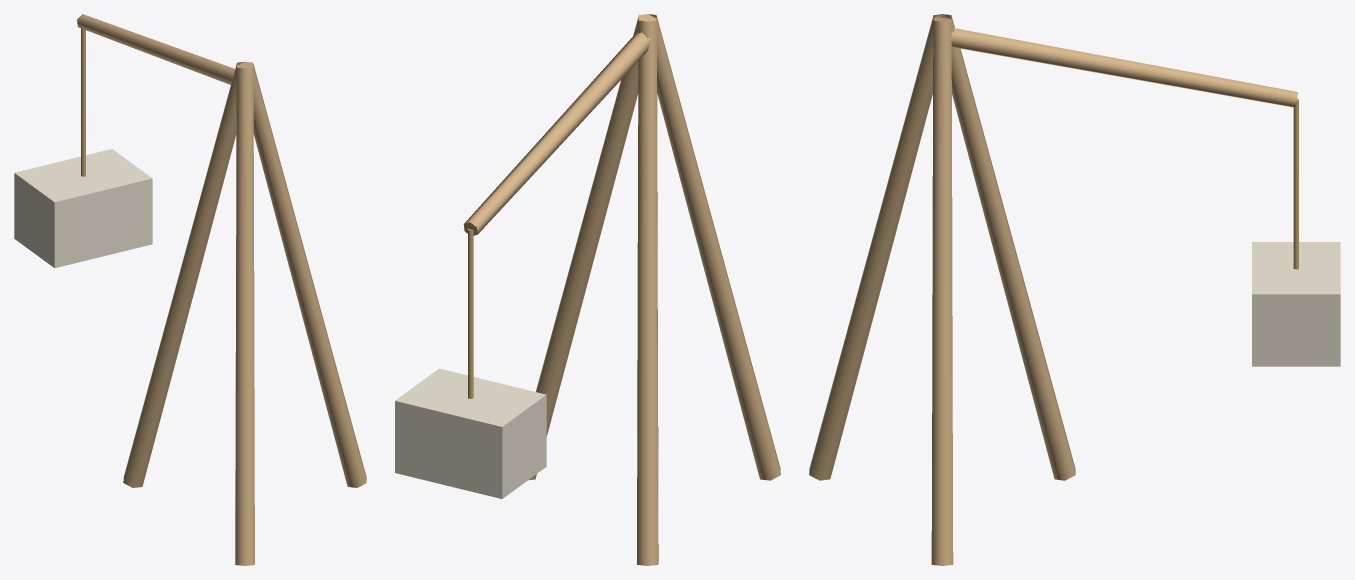
Rendered from crane.fbx.
3 renders of one model, left to right at view 1: azimuth 30°, elevation 25°; view 2: azimuth 150°, elevation 25°; view 3: azimuth 270°, elevation 25°, orthographic. The views are drawn at different scales.
Visible parts, largest first — view 1: crane; view 2: crane; view 3: crane.
Part boxes in pixels (left/top/right/bottom): crane: left=14, top=14, right=366, bottom=565; crane: left=395, top=14, right=780, bottom=565; crane: left=809, top=14, right=1340, bottom=565.
Bounding box in the file's own units: 0.1337 × 0.3053 × 0.3002.
